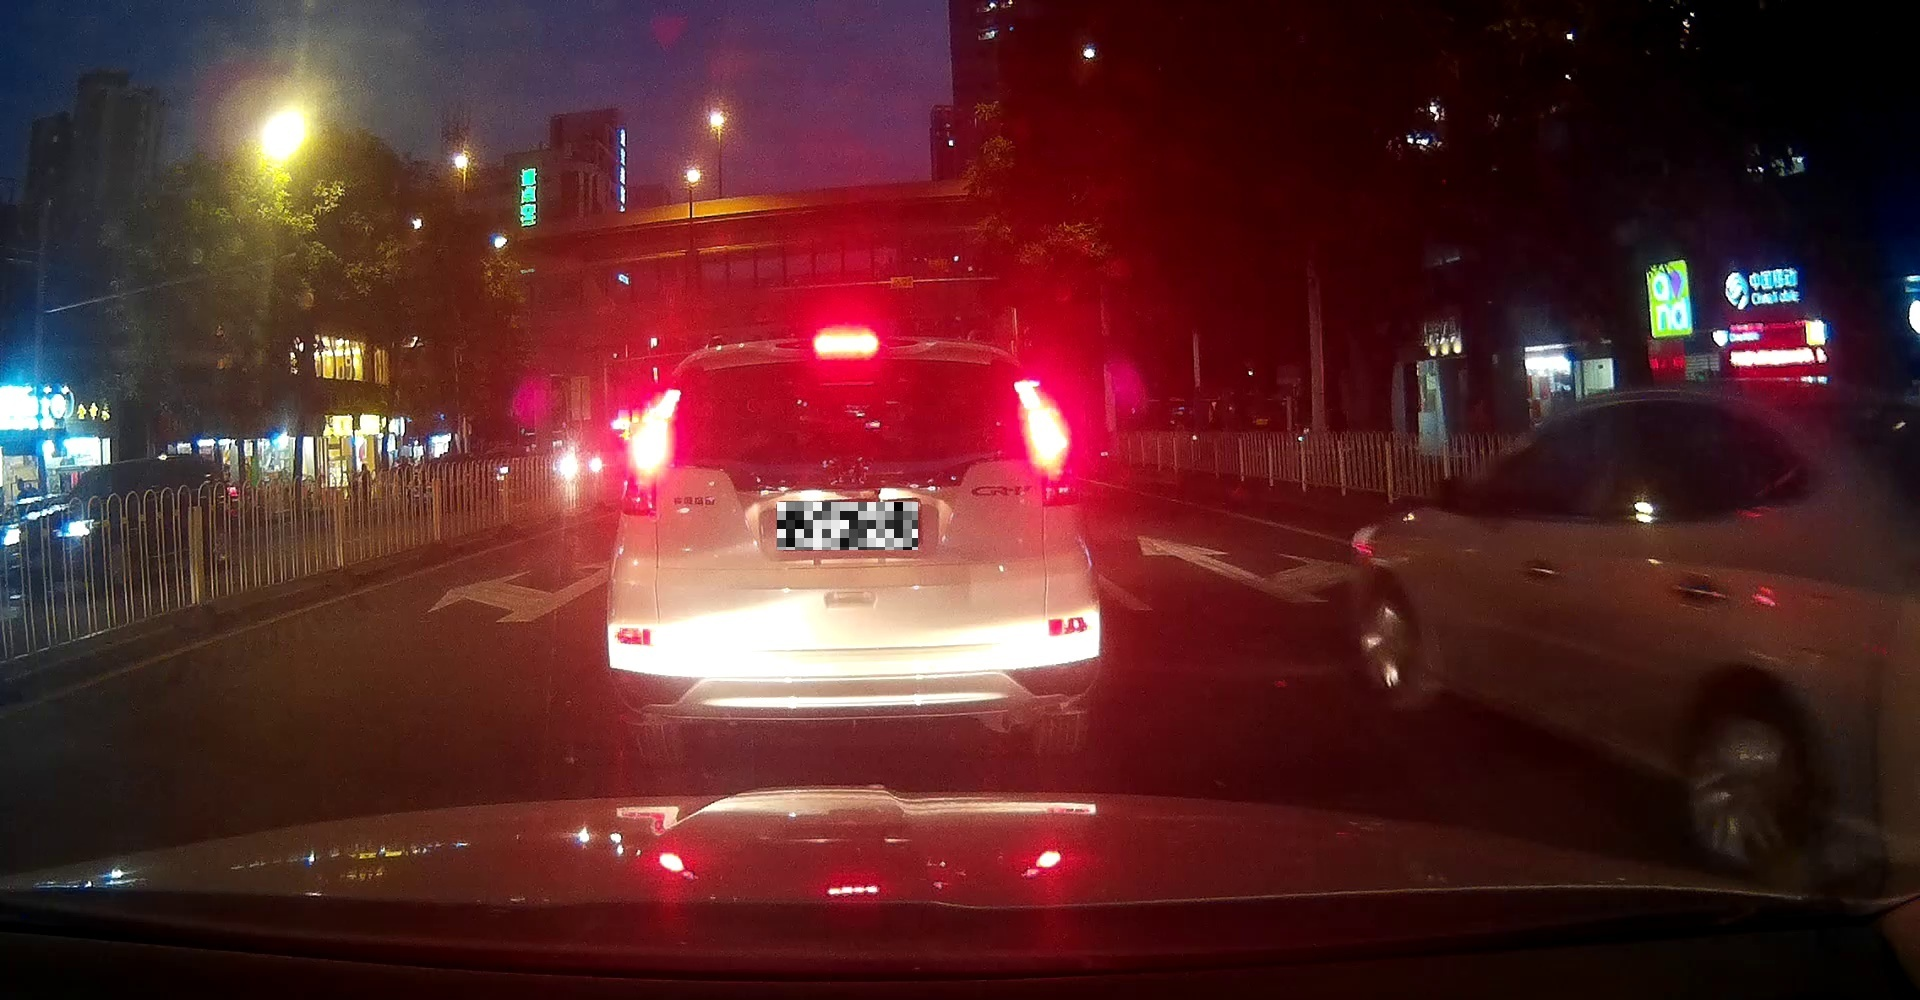L_light: (616, 386, 681, 515)
R_light: (1011, 381, 1081, 508)
T_light: (813, 335, 879, 357)
night-brake: (607, 322, 1105, 786)
plate_1: (777, 503, 918, 549)
